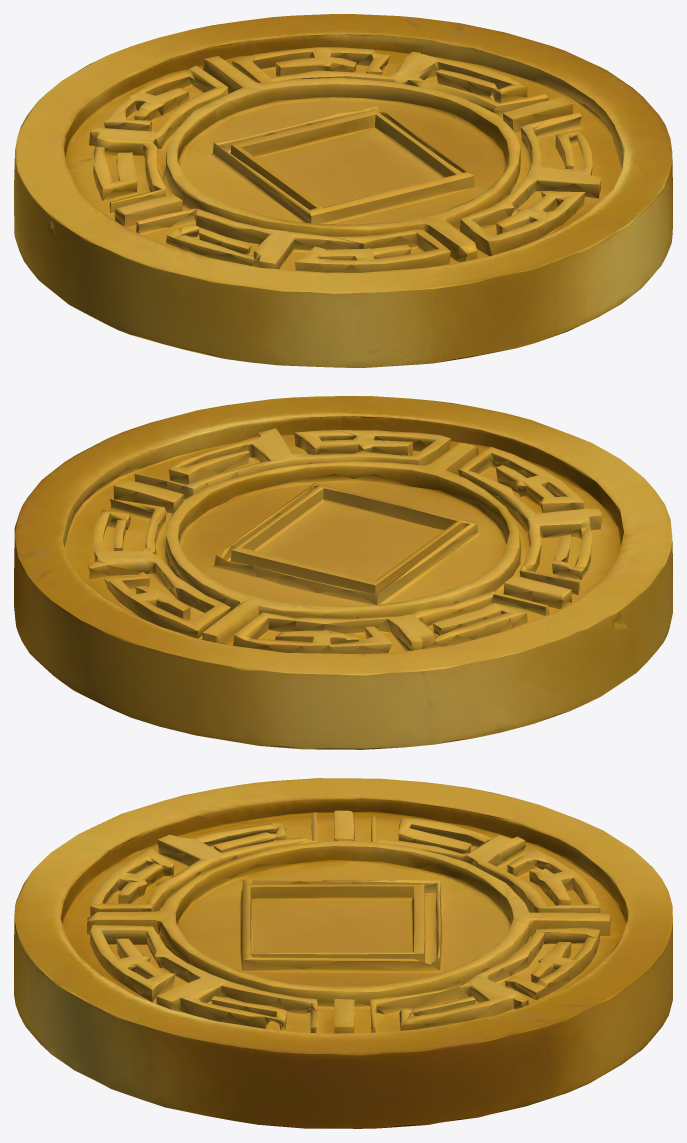
Rendered from m2TempleCoin.glb.
3 renders of one model, top to bottom at view 1: azimuth 30°, elevation 25°; view 2: azimuth 150°, elevation 25°; view 3: azimuth 270°, elevation 25°, orthographic.
Parts seen in each view (by area): view 1: model; view 2: model; view 3: model.
Boxes of the visible parts, left/top/right/bottom form: model: left=14, top=14, right=672, bottom=367; model: left=14, top=396, right=672, bottom=749; model: left=14, top=778, right=672, bottom=1128.
Bounding box in the file's own units: 1.88 × 0.2399 × 1.9.
1 material, 1 textured.
